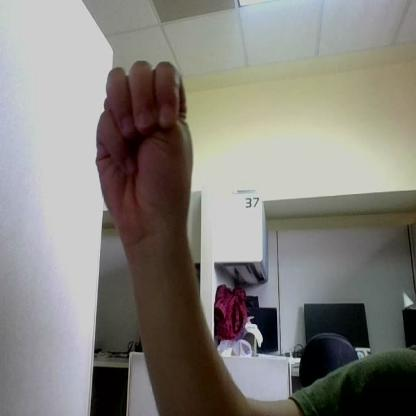M: (96, 61, 192, 233)
